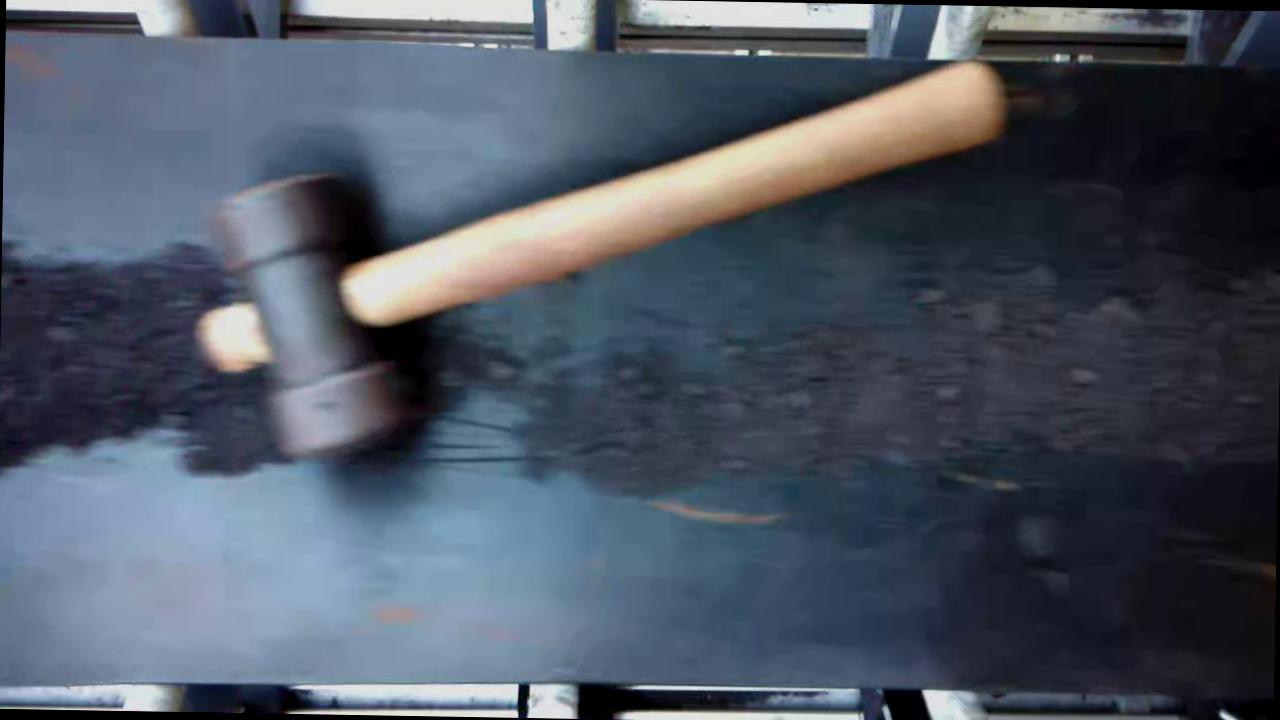conveyor: (3, 47, 1280, 687)
